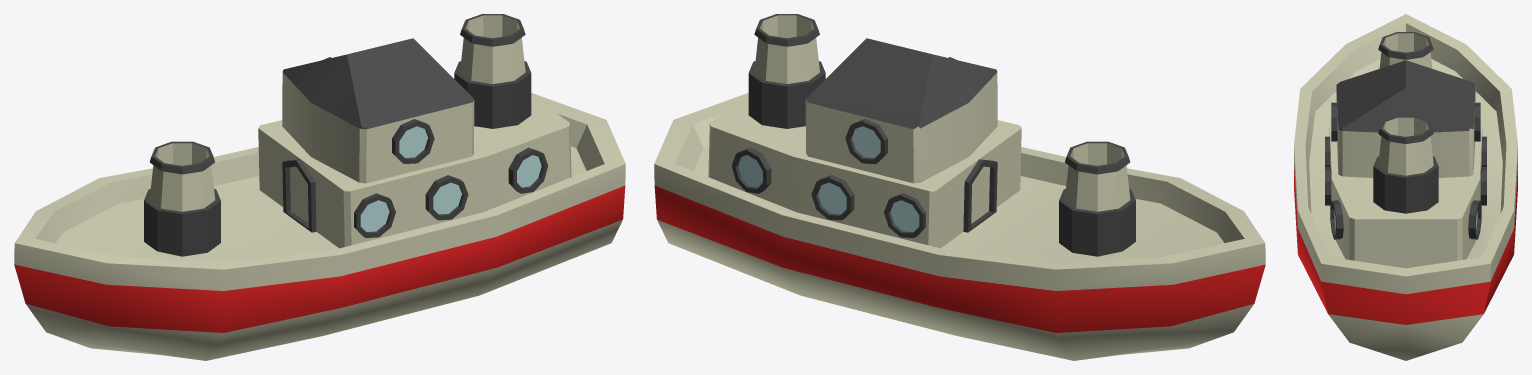
The model's file is Tentacle_Paquebot.FBX.
The picture shows the model from 3 angles, left to right: view 1: azimuth 30°, elevation 25°; view 2: azimuth 150°, elevation 25°; view 3: azimuth 270°, elevation 25°; orthographic projection. The views are drawn at different scales.
Visible parts, largest first — view 1: Tentacle_Bateau_003; view 2: Tentacle_Bateau_003; view 3: Tentacle_Bateau_003.
Boxes of the visible parts, <box> form: Tentacle_Bateau_003: <box>14,14,625,360</box>; Tentacle_Bateau_003: <box>654,14,1265,360</box>; Tentacle_Bateau_003: <box>1294,14,1517,360</box>.
Size of the model in its own units: 350 by 150 by 135.
